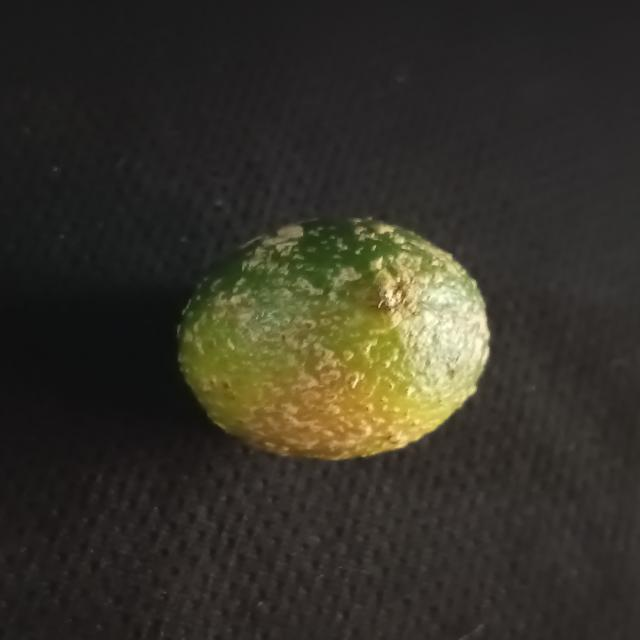scab: (162, 214, 499, 466)
